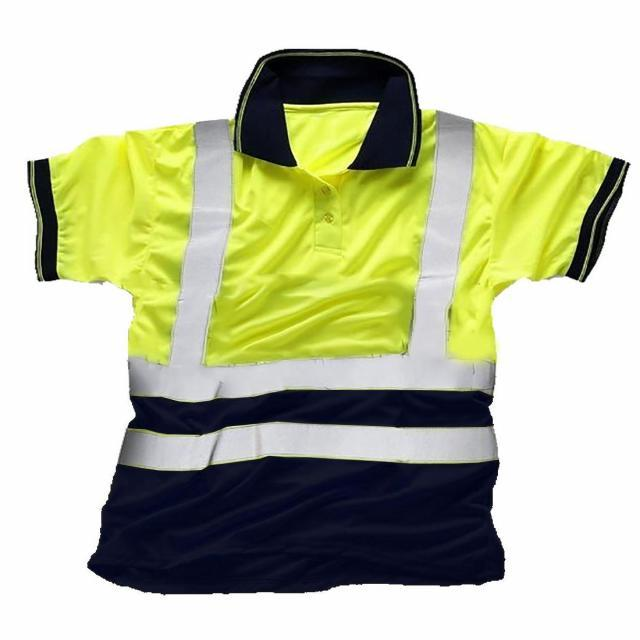reflective_jacket: (17, 56, 600, 491)
